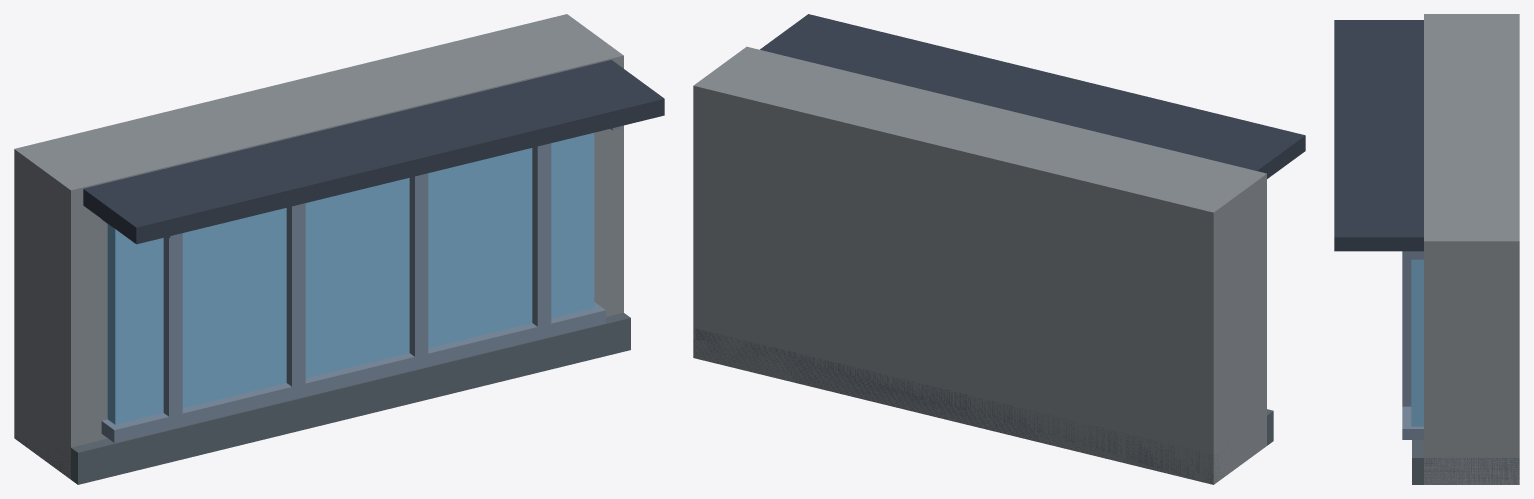
File: cittaArdesiaBaseA.glb
3 views of the same model, side by side, from view 1: azimuth 30°, elevation 25°; view 2: azimuth 150°, elevation 25°; view 3: azimuth 270°, elevation 25° (orthographic). The views are drawn at different scales.
Parts seen in each view (by area): view 1: cittaArdesiaBaseA_glass, cittaArdesiaBaseA_cittaArdesia, cittaArdesiaBaseA_steelDark, cittaArdesiaBaseA_steel, cittaArdesiaBaseA_tarmac; view 2: cittaArdesiaBaseA_cittaArdesia, cittaArdesiaBaseA_steelDark, cittaArdesiaBaseA_tarmac; view 3: cittaArdesiaBaseA_cittaArdesia, cittaArdesiaBaseA_steelDark, cittaArdesiaBaseA_tarmac, cittaArdesiaBaseA_glass, cittaArdesiaBaseA_steel.
Part boxes in pixels (x1,y1,x2,y2): cittaArdesiaBaseA_glass: (107, 133, 594, 424); cittaArdesiaBaseA_cittaArdesia: (14, 14, 623, 479); cittaArdesiaBaseA_steelDark: (83, 60, 664, 244); cittaArdesiaBaseA_steel: (101, 126, 620, 442); cittaArdesiaBaseA_tarmac: (14, 313, 630, 484); cittaArdesiaBaseA_cittaArdesia: (693, 46, 1266, 484); cittaArdesiaBaseA_steelDark: (760, 14, 1305, 178); cittaArdesiaBaseA_tarmac: (693, 328, 1273, 484); cittaArdesiaBaseA_cittaArdesia: (1424, 14, 1519, 484); cittaArdesiaBaseA_steelDark: (1334, 20, 1423, 251); cittaArdesiaBaseA_tarmac: (1412, 440, 1519, 484); cittaArdesiaBaseA_glass: (1411, 259, 1423, 426); cittaArdesiaBaseA_steel: (1402, 251, 1423, 439).
Size of the model in its own units: 9 by 4.5 by 3.1.
